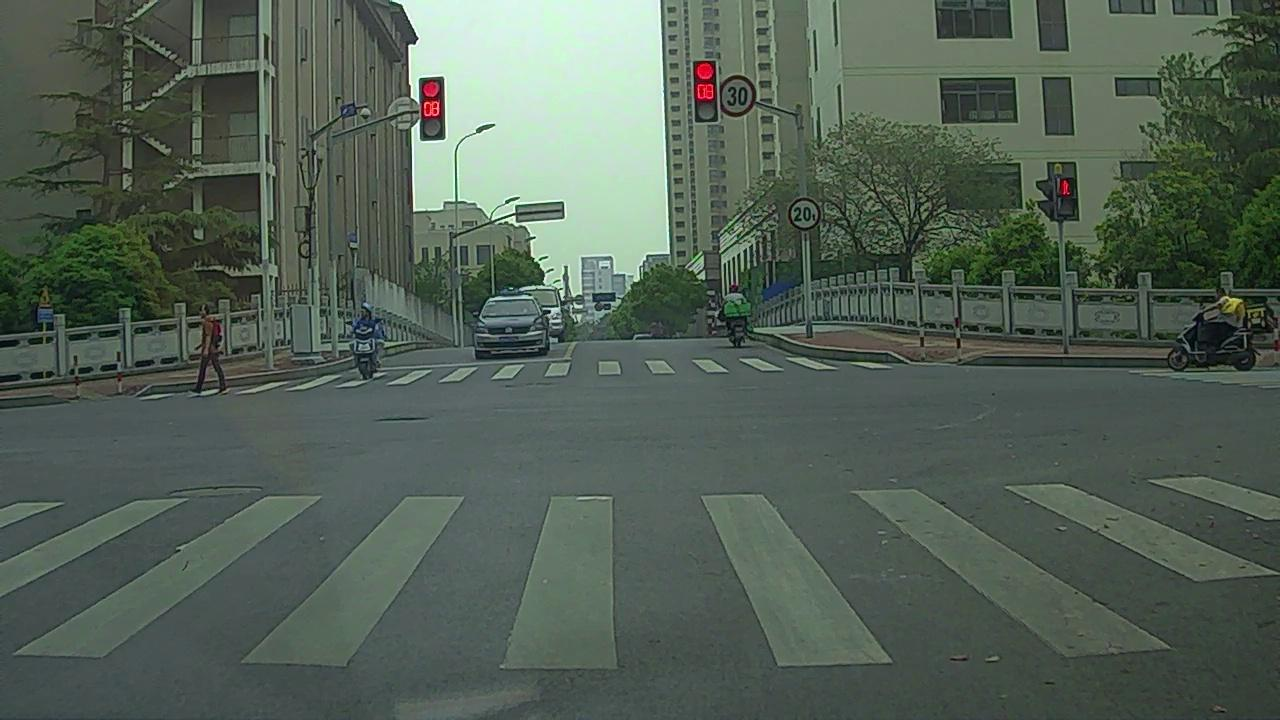traffic_light: (693, 58, 718, 119), (423, 79, 446, 139)
